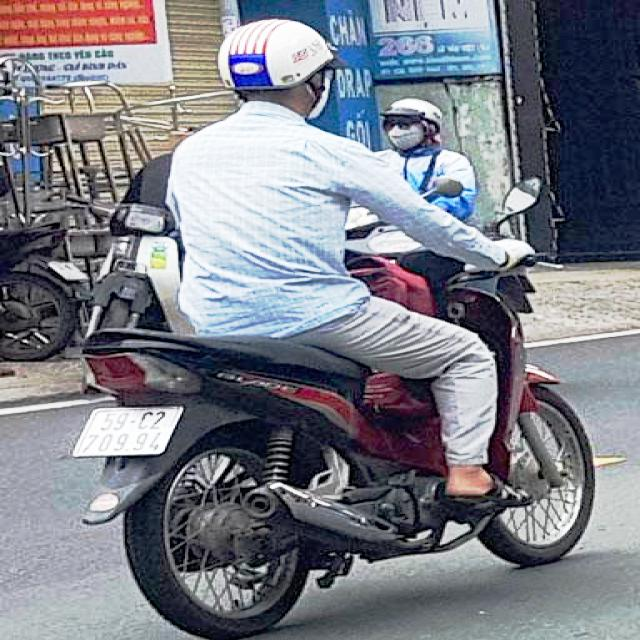license_plate: (69, 410, 185, 456)
